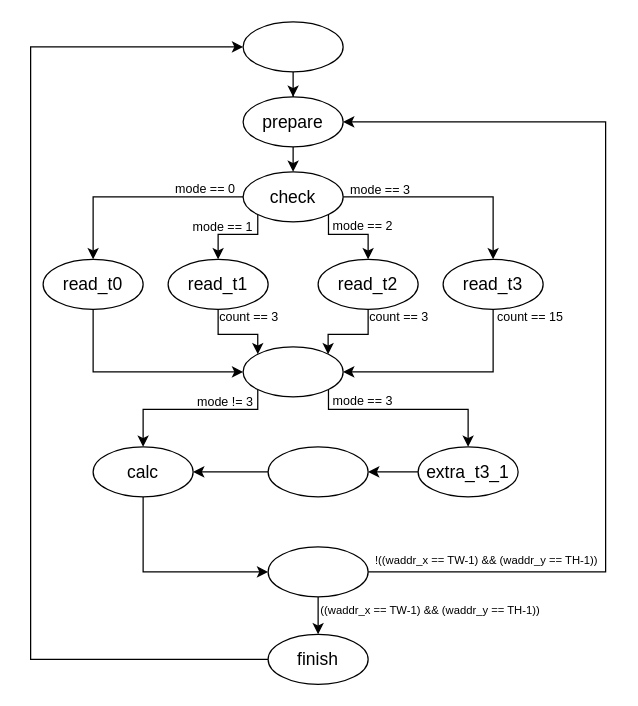
Image size: 638x706. Some labels were removed from this diagram. The centre of each missing label's shape, as x and y in pixels:
"extra_t3_2" belongs at point (317, 471).
"idle" belongs at point (292, 46).
"next_pixel" belongs at point (317, 571).
"pipe" belongs at point (292, 371).
